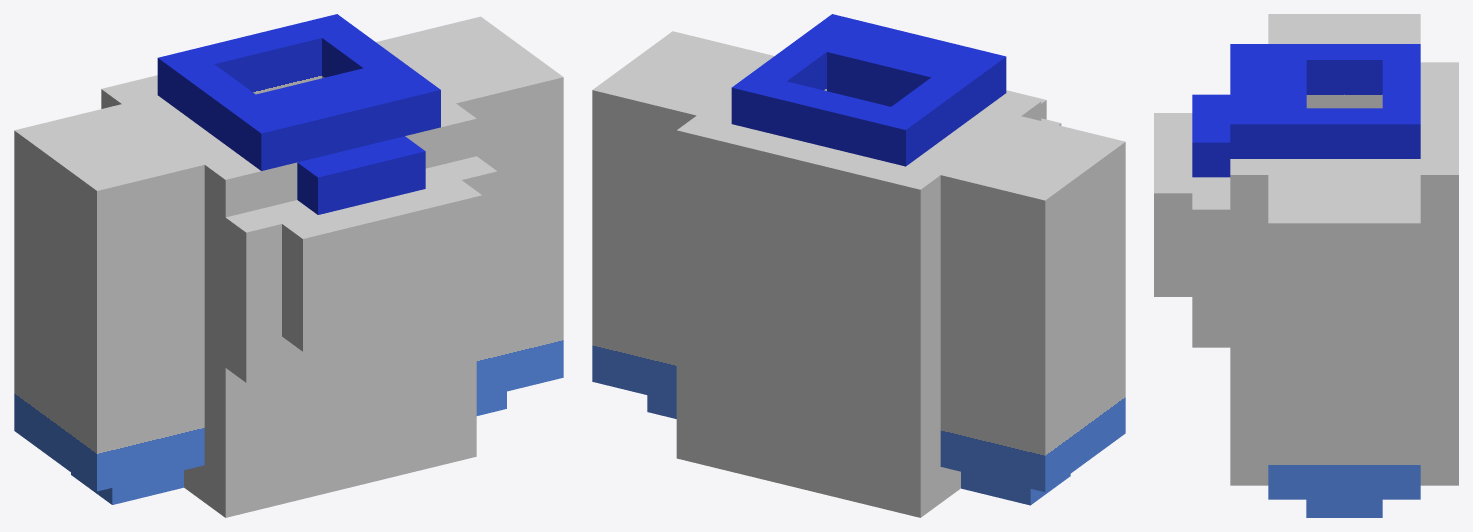
The model's file is Matrix_17.fbx.
The picture shows the model from 3 angles, left to right: view 1: azimuth 30°, elevation 25°; view 2: azimuth 150°, elevation 25°; view 3: azimuth 270°, elevation 25°; orthographic projection. The views are drawn at different scales.
Visible parts, largest first — view 1: Matrix_17; view 2: Matrix_17; view 3: Matrix_17.
Boxes of the visible parts, <box> form: Matrix_17: <box>14,14,563,517</box>; Matrix_17: <box>592,14,1125,517</box>; Matrix_17: <box>1154,14,1458,517</box>.
Size of the model in its own units: 13 by 10 by 8.
1 material, 1 textured.
